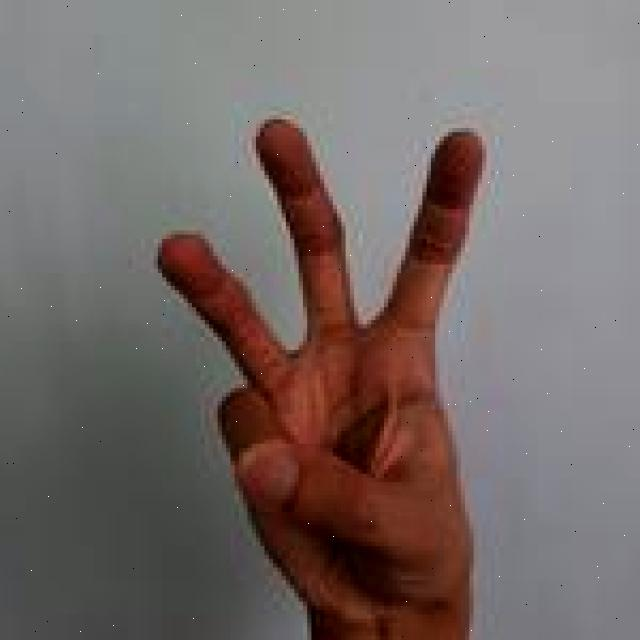W: (150, 105, 499, 640)
